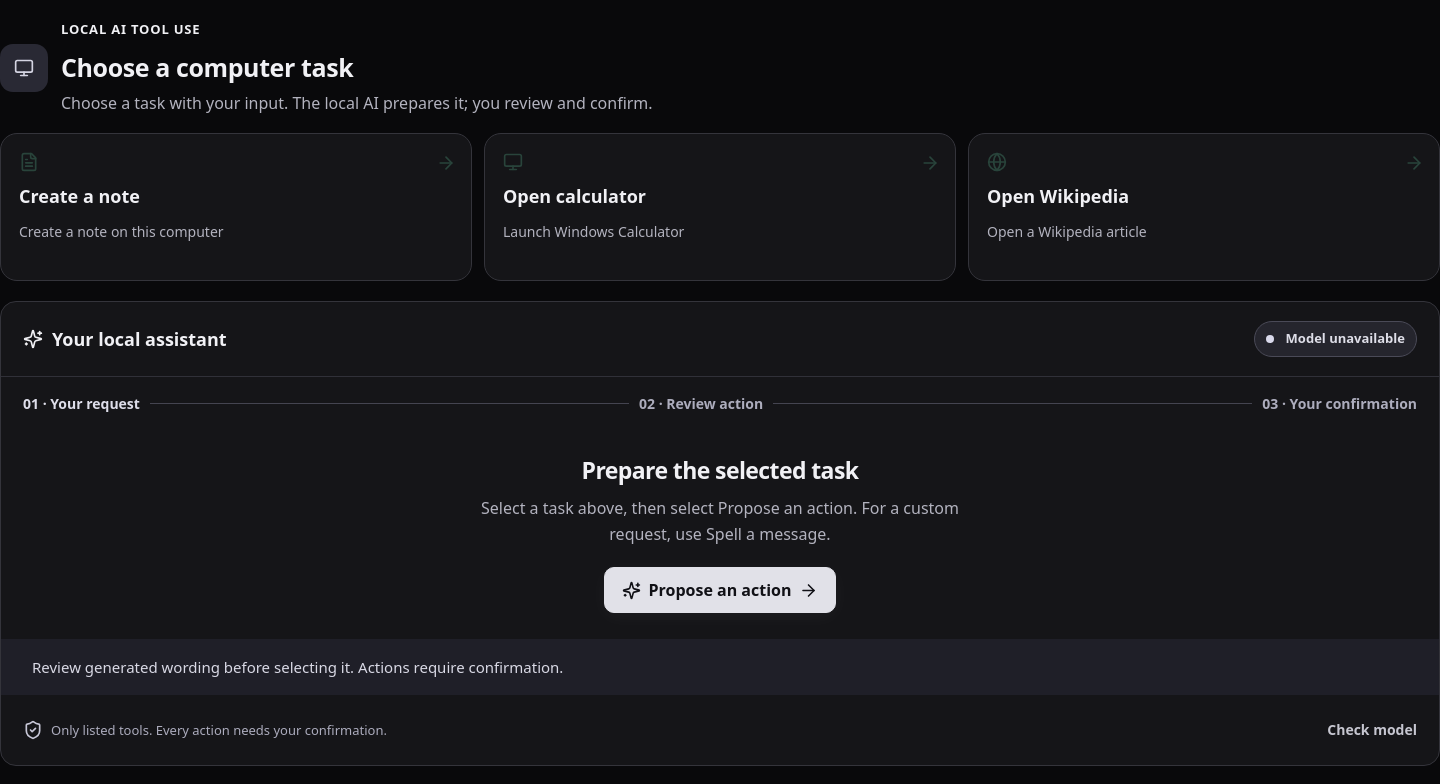
Test: local task planning and explicit authorization › renders the exact proposal before an explicit confirmation, then a receipt
The width and height of the screenshot is (1440, 784).
Click the button "Propose an action" at (720, 590), box left=604, top=567, right=836, bottom=613
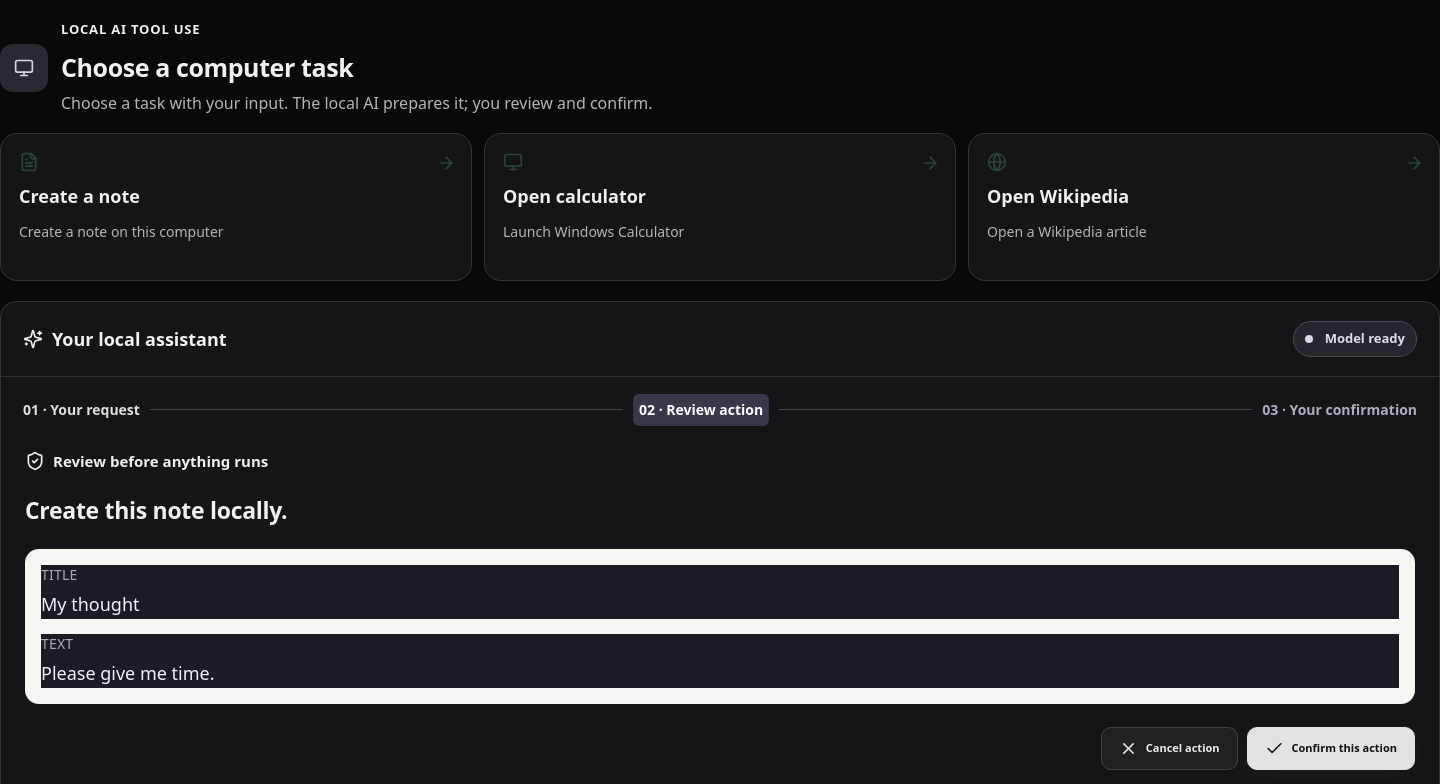
Expected: the heading "Create this note locally." is shown, left=25, top=494, right=287, bottom=526
Expected: the text "My thought" is shown, left=41, top=592, right=140, bottom=616
Expected: the text "Please give me time." is shown, left=41, top=661, right=214, bottom=685
Click the button "Confirm this action" at (1331, 748), box left=1246, top=727, right=1415, bottom=770
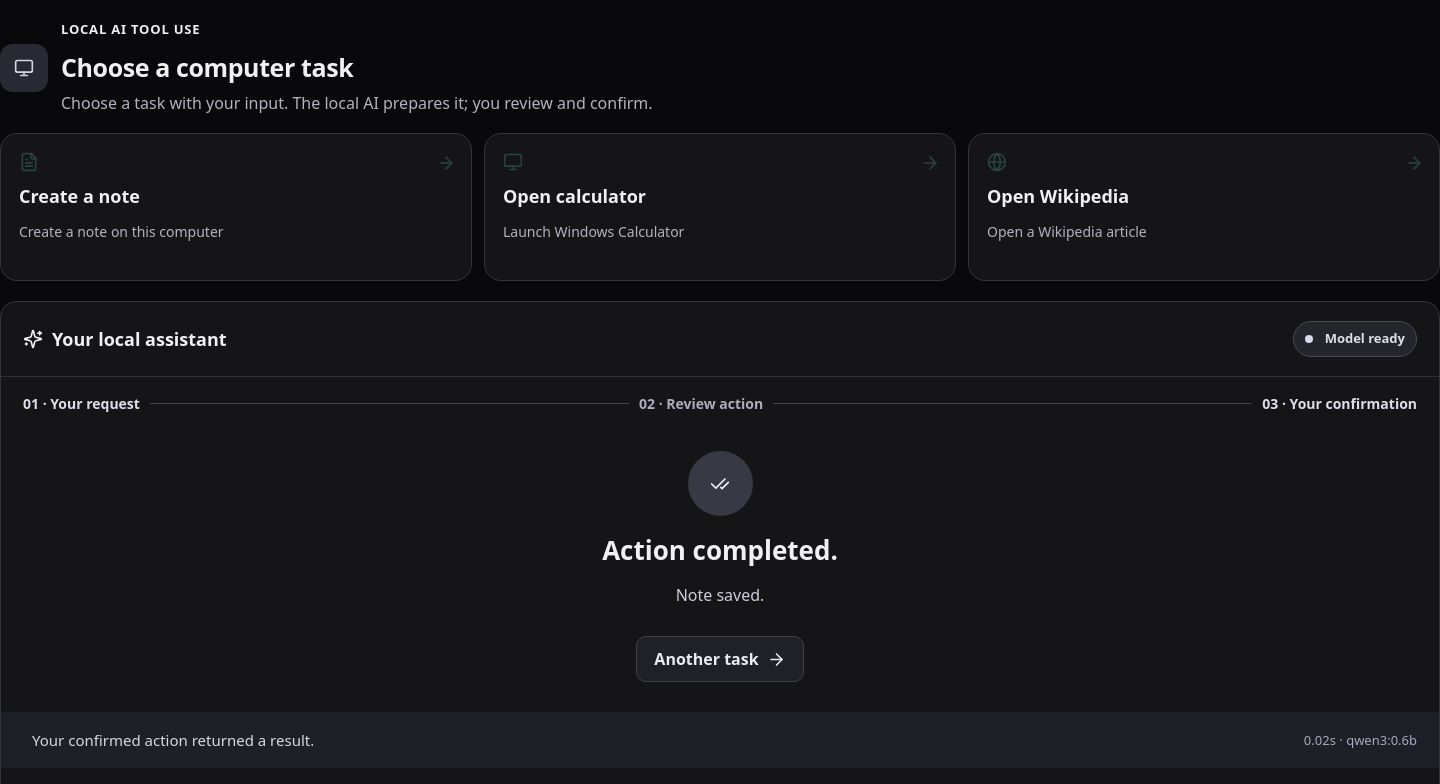
Expected: the heading "Action completed." is shown, left=602, top=532, right=838, bottom=568
Expected: the text "Note saved." is shown, left=676, top=584, right=764, bottom=606
